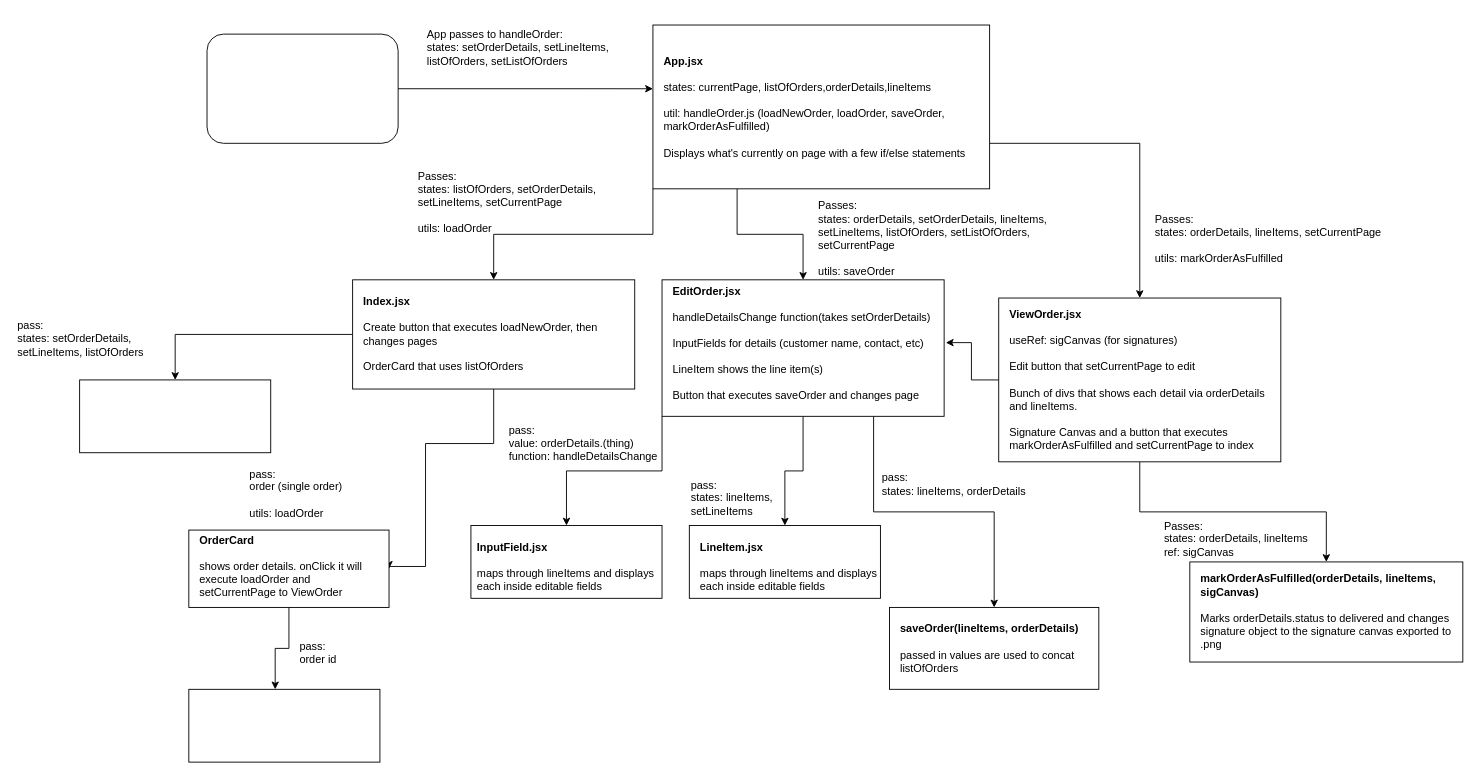
Some shapes in this 1479 by 778 pixel diagram are drawn without their labels. Here are the shapes that lost their labels. From the top down, the centre of each, then its label:
point (302, 88): handleOrders.js functions: loadNewOrder, loadOrder, saveOrder, markAsFulfilled
point (175, 416): loadNewOrder() setOrderDetails and setLineItems
point (284, 725): loadOrder(id) setOrderDetails and setLineItems
